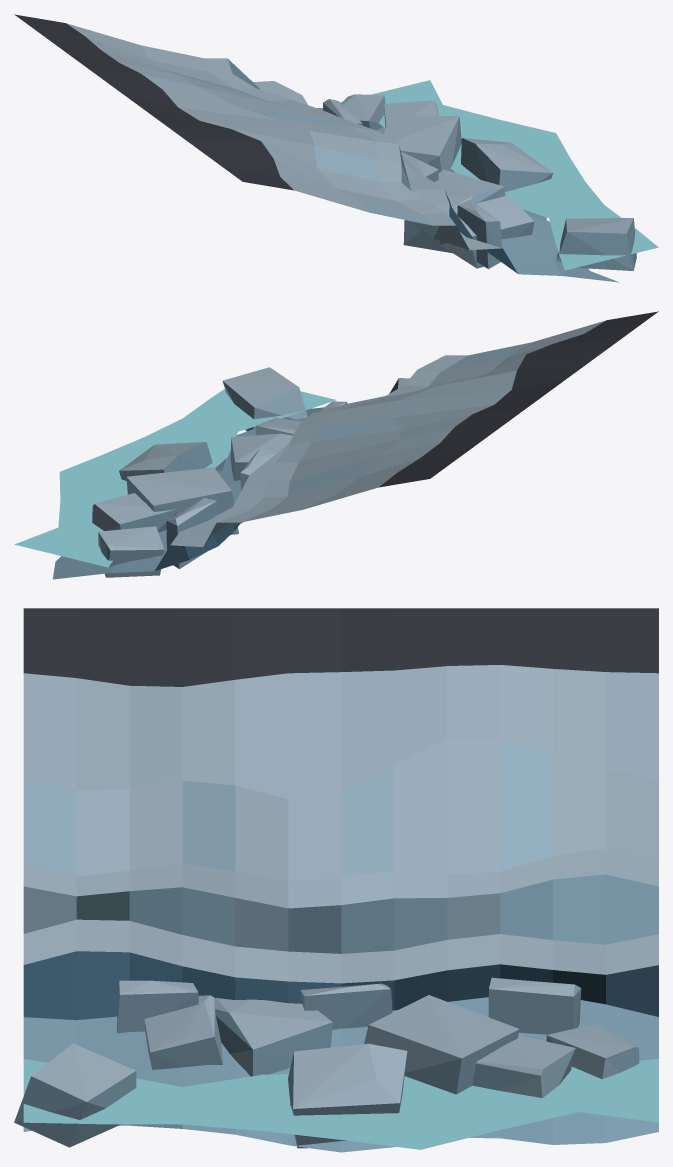
File: bank.glb
3 views of the same model, one above another, from view 1: azimuth 30°, elevation 25°; view 2: azimuth 150°, elevation 25°; view 3: azimuth 270°, elevation 25° (orthographic). The views are drawn at different scales.
Parts seen in each view (by area): view 1: bank; view 2: bank; view 3: bank.
Boxes of the visible parts, <box> form: bank: <box>14,14,658,282</box>; bank: <box>14,311,658,579</box>; bank: <box>14,608,658,1152</box>.
Bounding box in the file's own units: 13.82 × 5.64 × 12.18.
